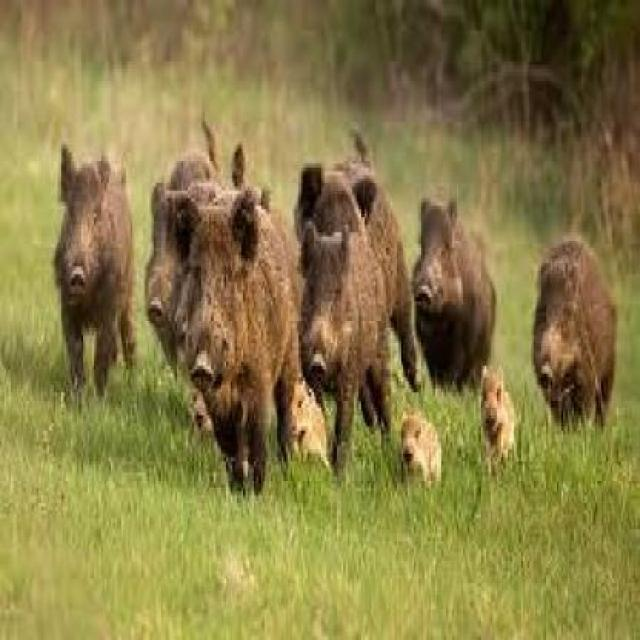wildboar: (168, 187, 306, 493), (289, 122, 420, 429), (294, 220, 398, 474), (50, 140, 142, 400), (142, 113, 224, 381), (411, 192, 498, 402), (530, 234, 616, 429), (283, 372, 337, 470), (475, 363, 514, 462), (398, 411, 444, 494)
